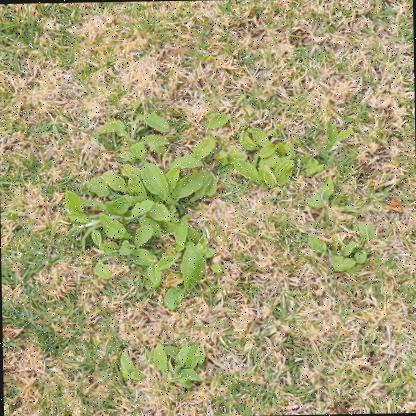Weeds: (63, 93, 358, 312), (305, 175, 377, 275), (119, 343, 207, 391)
